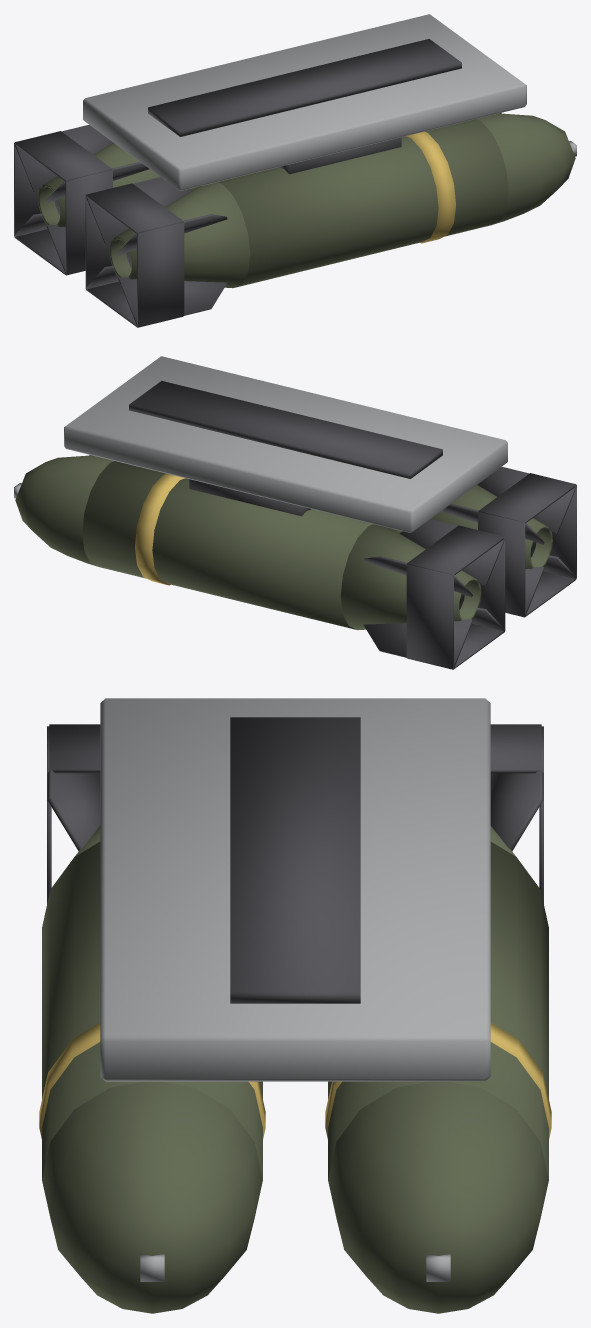
Rendered from bombs_1.glb.
3 renders of one model, top to bottom at view 1: azimuth 30°, elevation 25°; view 2: azimuth 150°, elevation 25°; view 3: azimuth 270°, elevation 25°, orthographic. The views are drawn at different scales.
Parts seen in each view (by area): view 1: bombs_1; view 2: bombs_1; view 3: bombs_1.
Boxes of the visible parts, x1,y1,x2,y2 form: bombs_1: (14,14,576,327); bombs_1: (14,356,576,669); bombs_1: (39,698,551,1313).
Size of the model in its own units: 0.8209 by 0.247 by 0.394.
